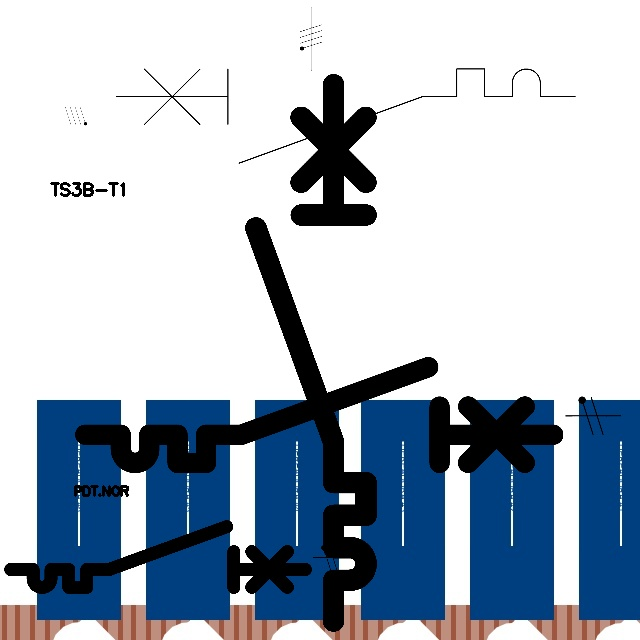interruptor_termomagnetico: (242, 70, 380, 634), (73, 355, 565, 475), (104, 57, 587, 175), (3, 519, 313, 595)
